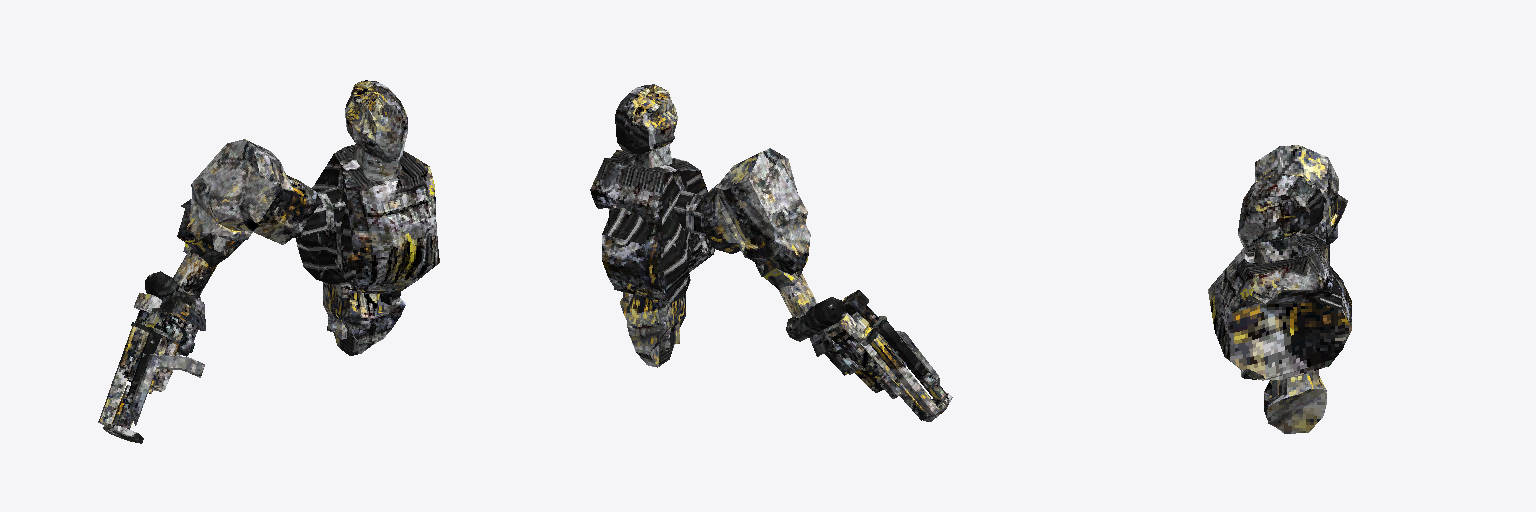
3 views of the same model, side by side, from view 1: azimuth 30°, elevation 25°; view 2: azimuth 150°, elevation 25°; view 3: azimuth 270°, elevation 25° (orthographic).
Parts seen in each view (by area): view 1: GIB_Body_SKEL; view 2: GIB_Body_SKEL; view 3: GIB_Body_SKEL.
Part boxes in pixels (bbox=[...]): GIB_Body_SKEL: bbox=[98, 80, 439, 443]; GIB_Body_SKEL: bbox=[590, 84, 952, 421]; GIB_Body_SKEL: bbox=[1208, 145, 1351, 433].
Size of the model in its own units: 289 by 235 by 109.
1 materials, 1 textured.